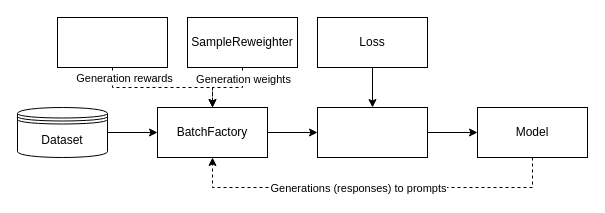
Image size: 605x213. Some labels were removed from this diagram. The centre of each missing label's shape, as x and y in pixels:
"Annotator" goes at (112,42).
"Trainer" goes at (372,132).
